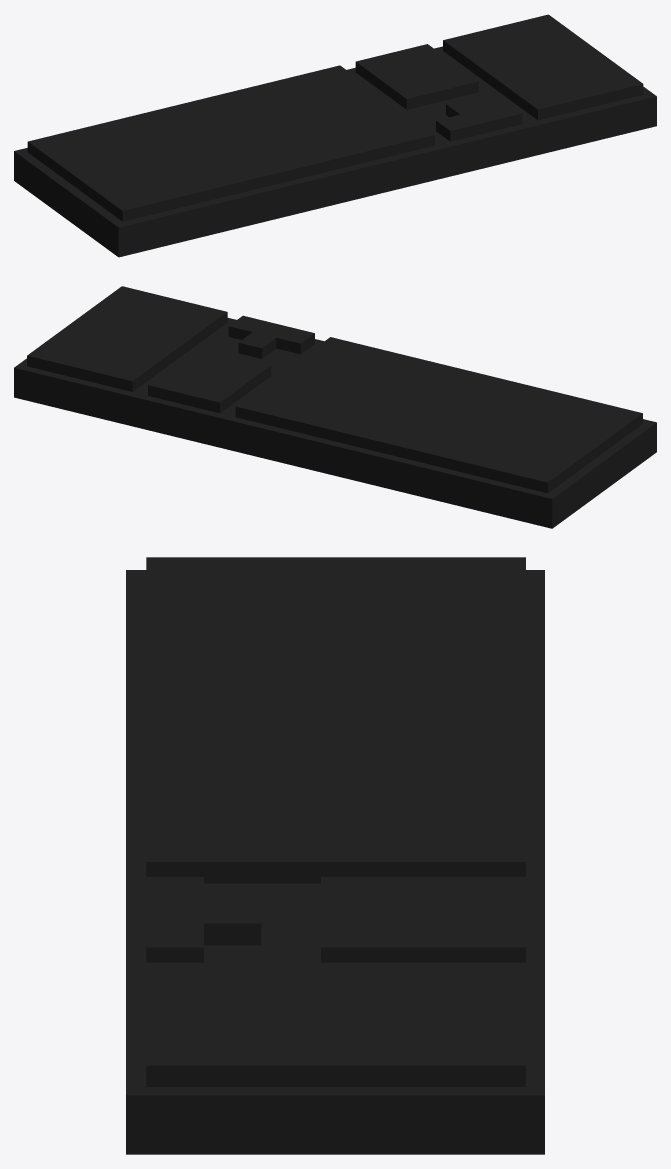
The model's file is keyboard.glb.
3 views of the same model, one above another, from view 1: azimuth 30°, elevation 25°; view 2: azimuth 150°, elevation 25°; view 3: azimuth 270°, elevation 25° (orthographic). The views are drawn at different scales.
Visible parts, largest first — view 1: Cube; view 2: Cube; view 3: Cube.
Boxes of the visible parts, x1,y1,x2,y2 form: Cube: (14,14,656,257); Cube: (14,286,656,528); Cube: (126,557,544,1154).
Size of the model in its own units: 0.908 by 0.0653 by 0.306.
Materials: 1 (1 with a texture image).
